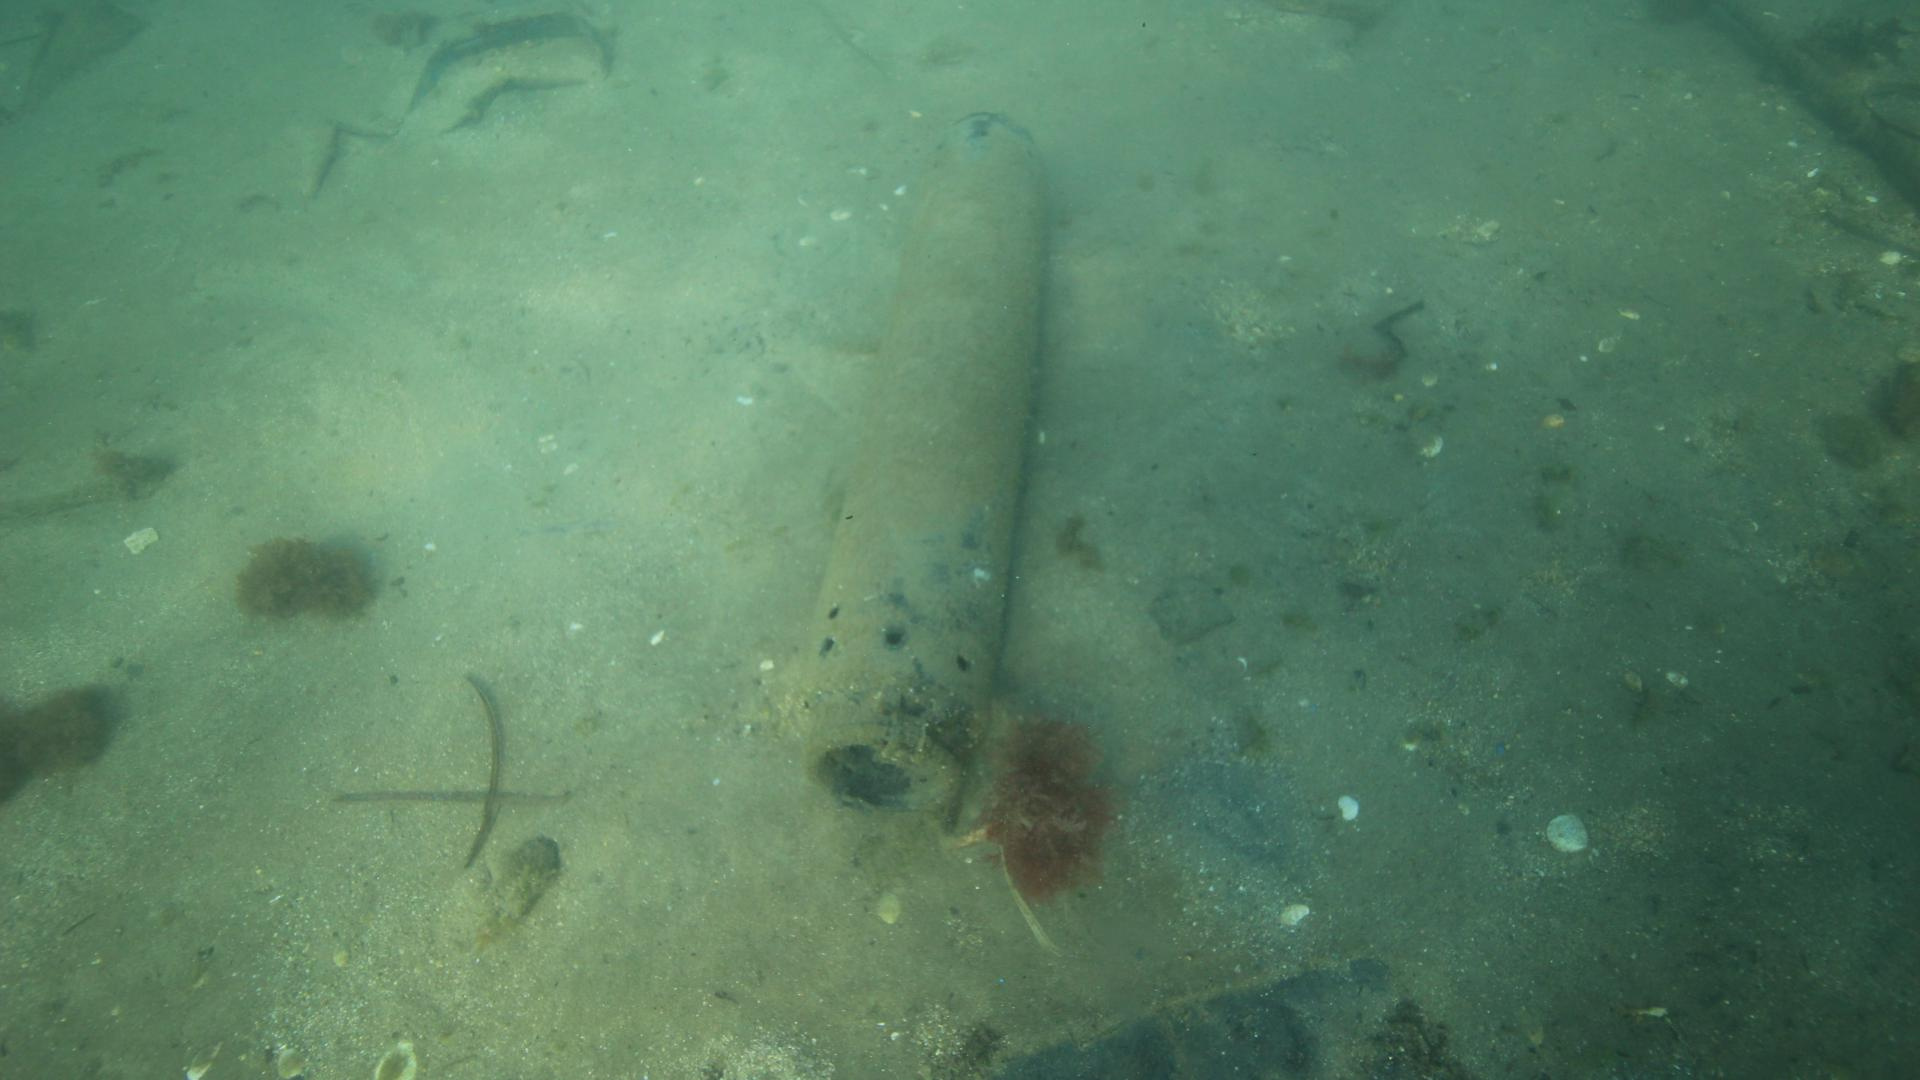eel fish trap: (796, 107, 1048, 832)
